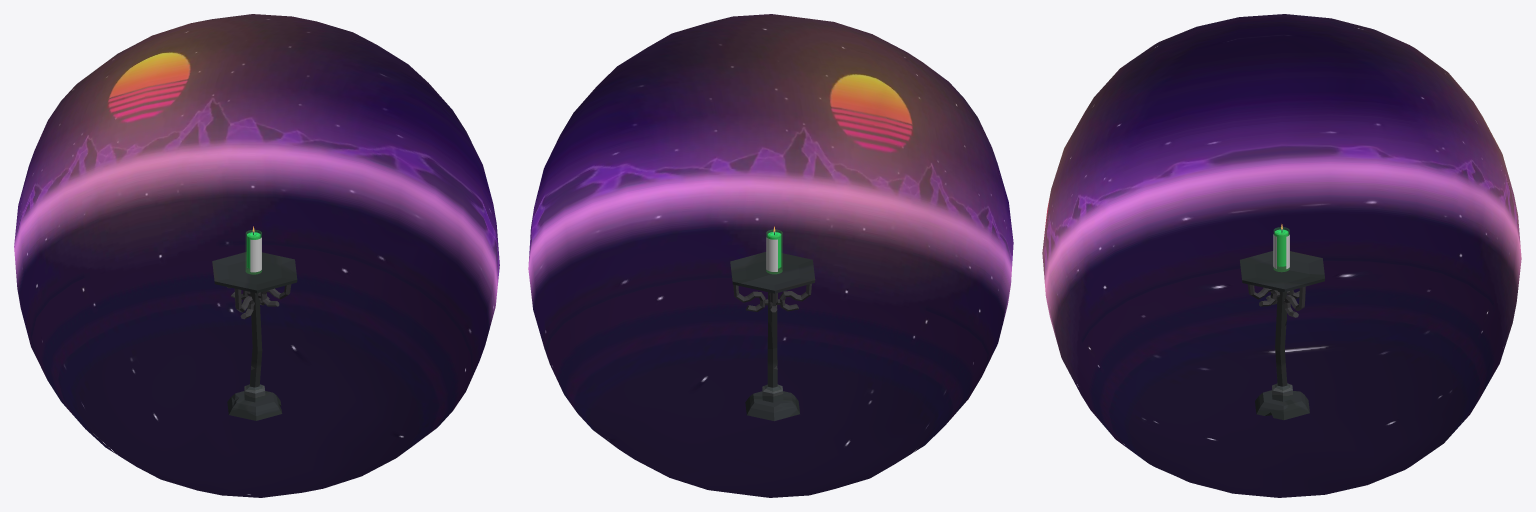
File: XCandleAnimatedFlameVotiveSynthwave.glb
The picture shows the model from 3 angles, left to right: view 1: azimuth 30°, elevation 25°; view 2: azimuth 150°, elevation 25°; view 3: azimuth 270°, elevation 25°; orthographic projection.
Visible parts, largest first — view 1: Room, Candle_Stand; view 2: Room, Candle_Stand; view 3: Room, Candle_Stand.
Part boxes in pixels (x1=…): Room: x1=14, y1=14, x2=499, y2=497; Candle_Stand: x1=212, y1=252, x2=297, y2=420; Room: x1=528, y1=14, x2=1013, y2=497; Candle_Stand: x1=730, y1=252, x2=815, y2=421; Room: x1=1042, y1=14, x2=1521, y2=497; Candle_Stand: x1=1239, y1=251, x2=1324, y2=420.
Bounding box in the file's own units: 24.43 × 24.43 × 24.44.
6 materials, 4 textured.
